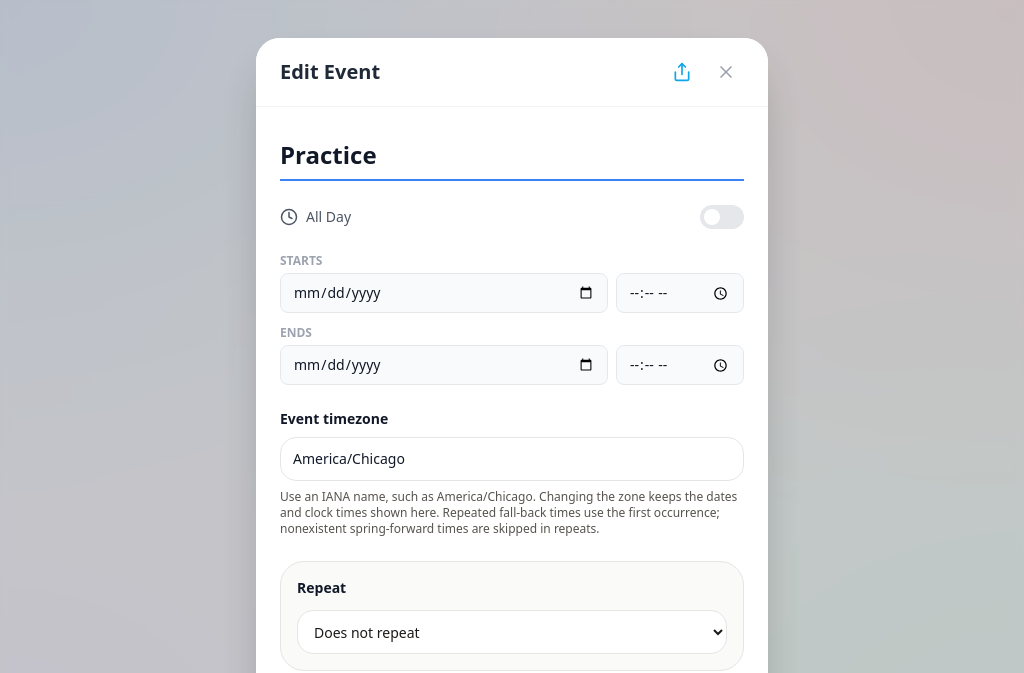
it: explains invalid or abbreviated timezones before submitting
The width and height of the screenshot is (1024, 673).
Replace the text in the field labelled "Event timezone" with "CST" at (512, 459), box [280, 437, 744, 481]
(page scrolled)
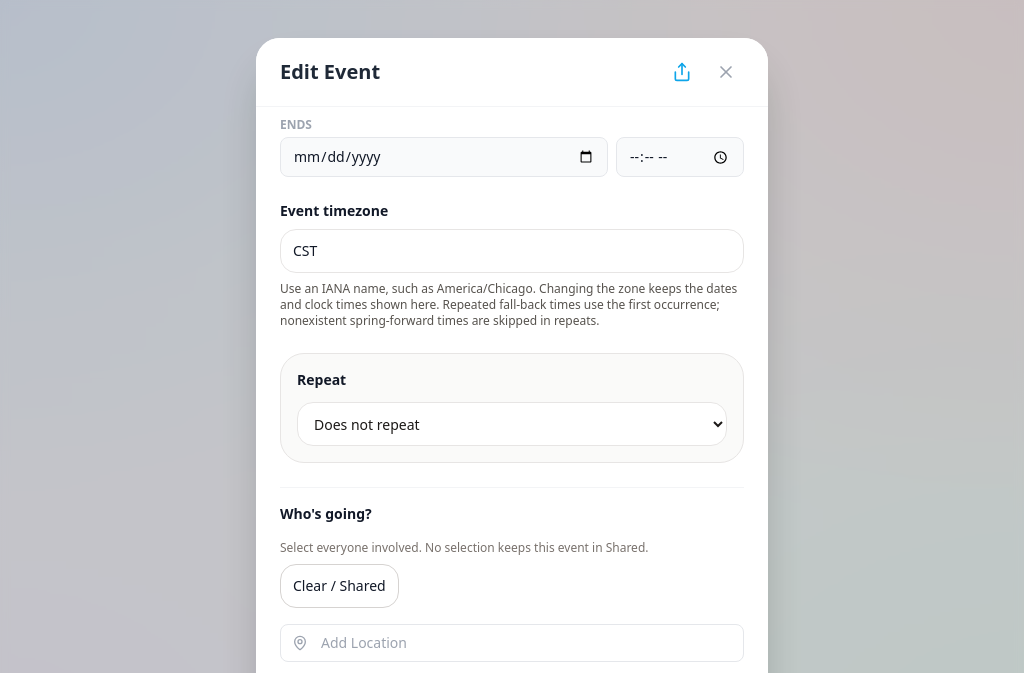
Submit the form named "Start date"
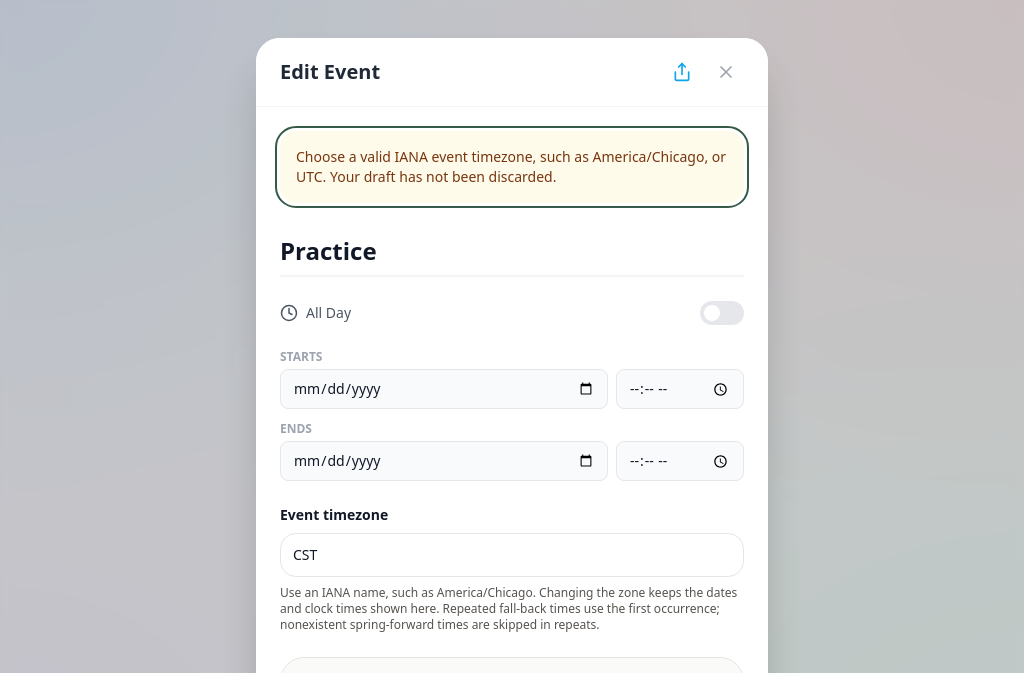
Result: the message shows "Choose a valid IANA event timezone" at [296, 147, 726, 186]
Replace the text in the field labelled "Event timezone" with "America/" at (512, 555), box [280, 533, 744, 577]
(page scrolled)
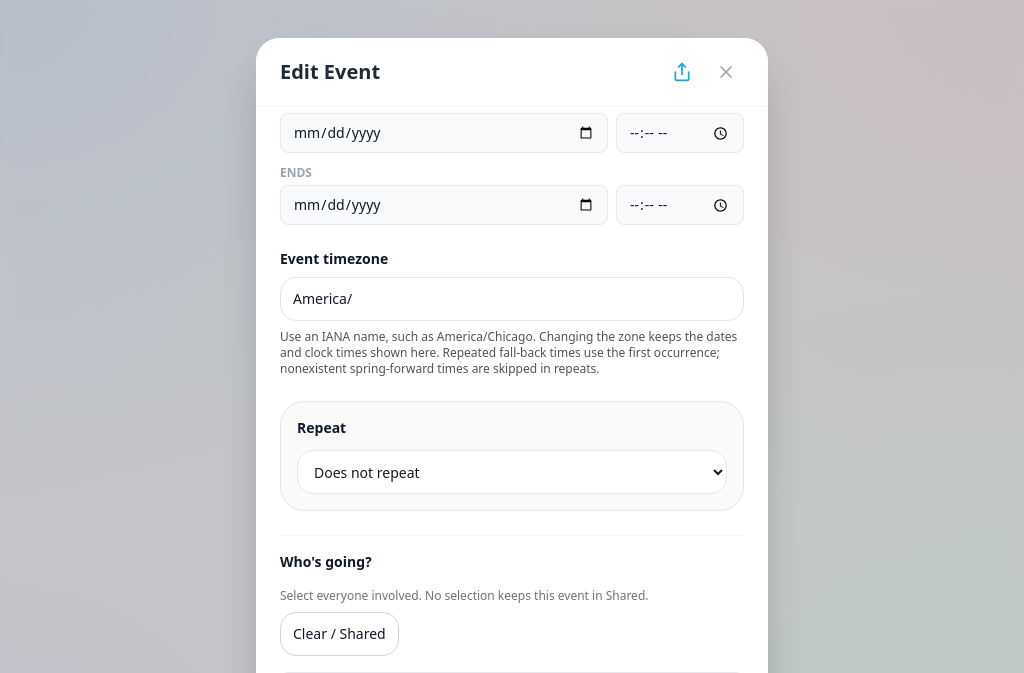
Submit the form named "Start date"
Replace the text in the field labelled "Event timezone" with "Mars/Olympus" at (512, 299), box [280, 277, 744, 321]
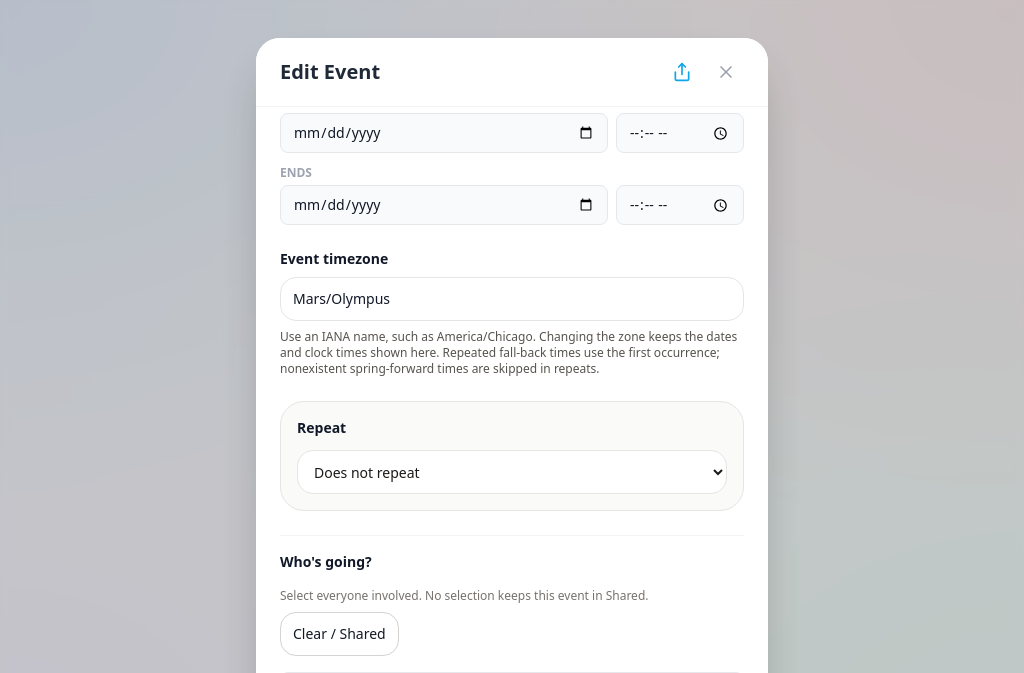
Submit the form named "Start date"
(page scrolled)
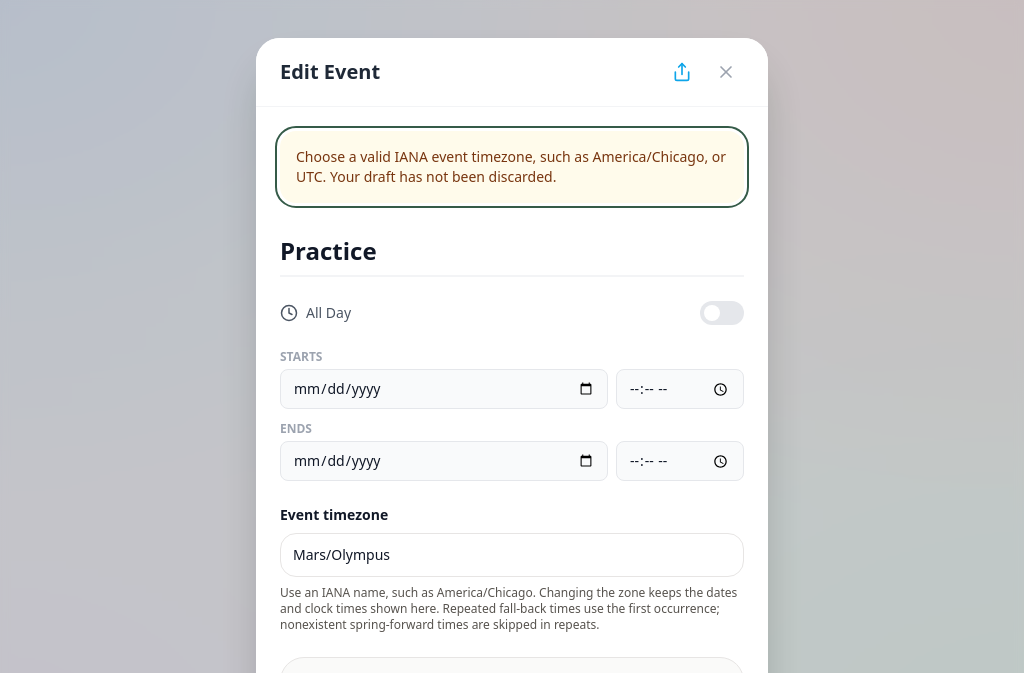
Result: the message shows "Choose a valid IANA event timezone" at [296, 147, 726, 186]
